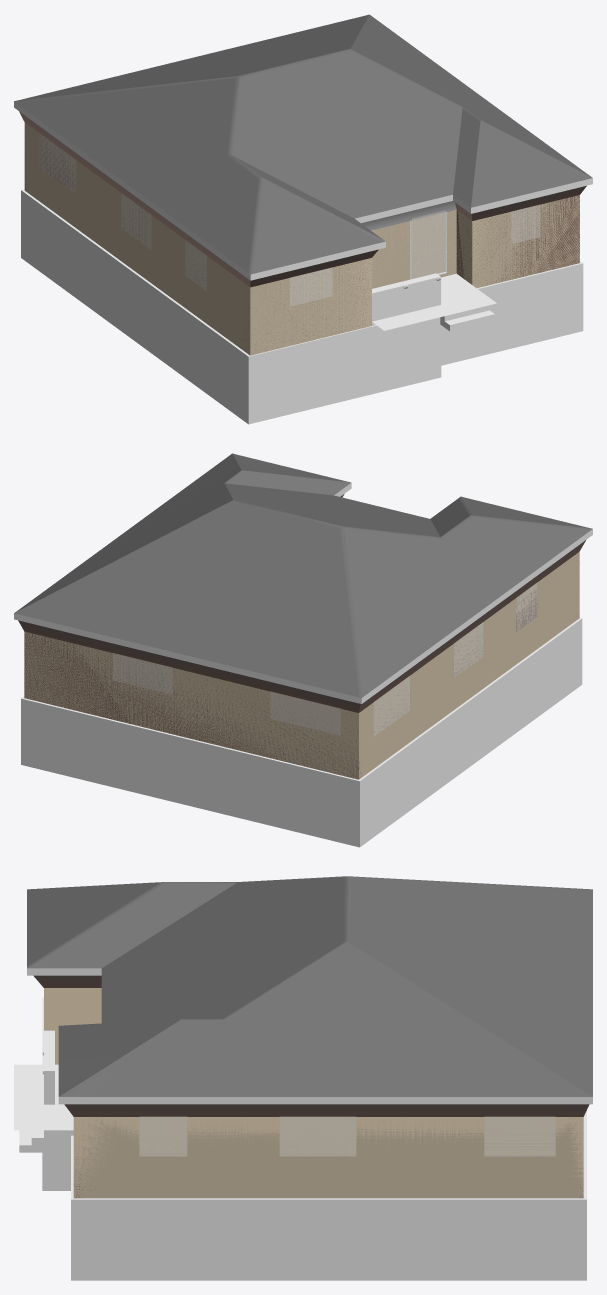
The model's file is house_small3.dae.
3 views of the same model, one above another, from view 1: azimuth 30°, elevation 25°; view 2: azimuth 150°, elevation 25°; view 3: azimuth 270°, elevation 25° (orthographic). The views are drawn at different scales.
Visible parts, largest first — view 1: house_small3_a800, house_small3_a200, house_small3_a35, Colmesh-1; view 2: house_small3_a800, house_small3_a200, Colmesh-1, house_small3_a35; view 3: house_small3_a800, house_small3_a35, house_small3_a200, Colmesh-1.
Boxes of the visible parts, box(x1,y1,x2,y2) form: house_small3_a800: box(14, 14, 592, 424); house_small3_a200: box(21, 133, 583, 422); house_small3_a35: box(17, 17, 498, 354); Colmesh-1: box(19, 111, 586, 350); house_small3_a800: box(14, 453, 592, 847); house_small3_a200: box(21, 582, 582, 844); Colmesh-1: box(18, 494, 585, 778); house_small3_a35: box(19, 456, 588, 758); house_small3_a800: box(19, 876, 592, 1280); house_small3_a35: box(14, 988, 585, 1197); house_small3_a200: box(19, 997, 586, 1280); Colmesh-1: box(19, 975, 589, 1198).
Size of the model in its own units: 12 by 14.14 by 7.3.
